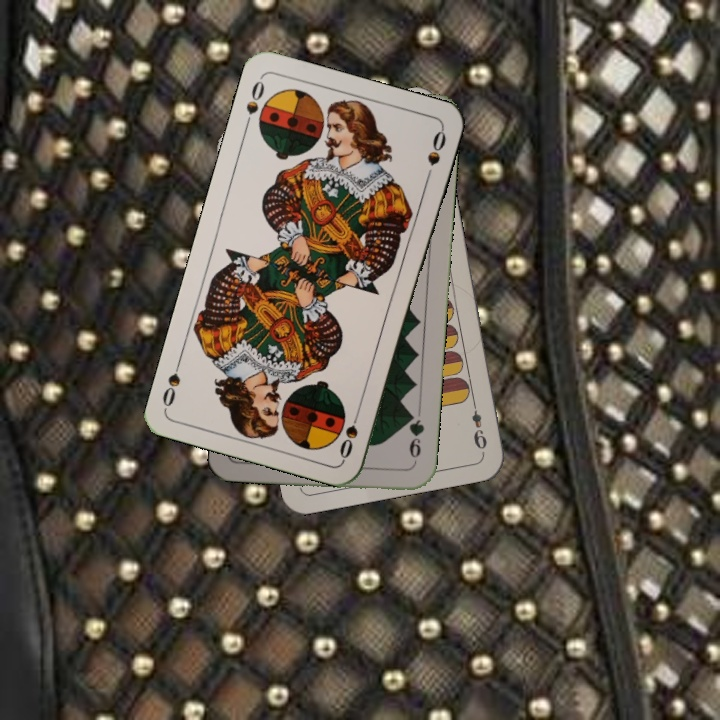E9: (467, 396, 490, 452)
G9: (404, 408, 427, 468)
SO: (335, 404, 364, 462), (240, 74, 267, 132)
